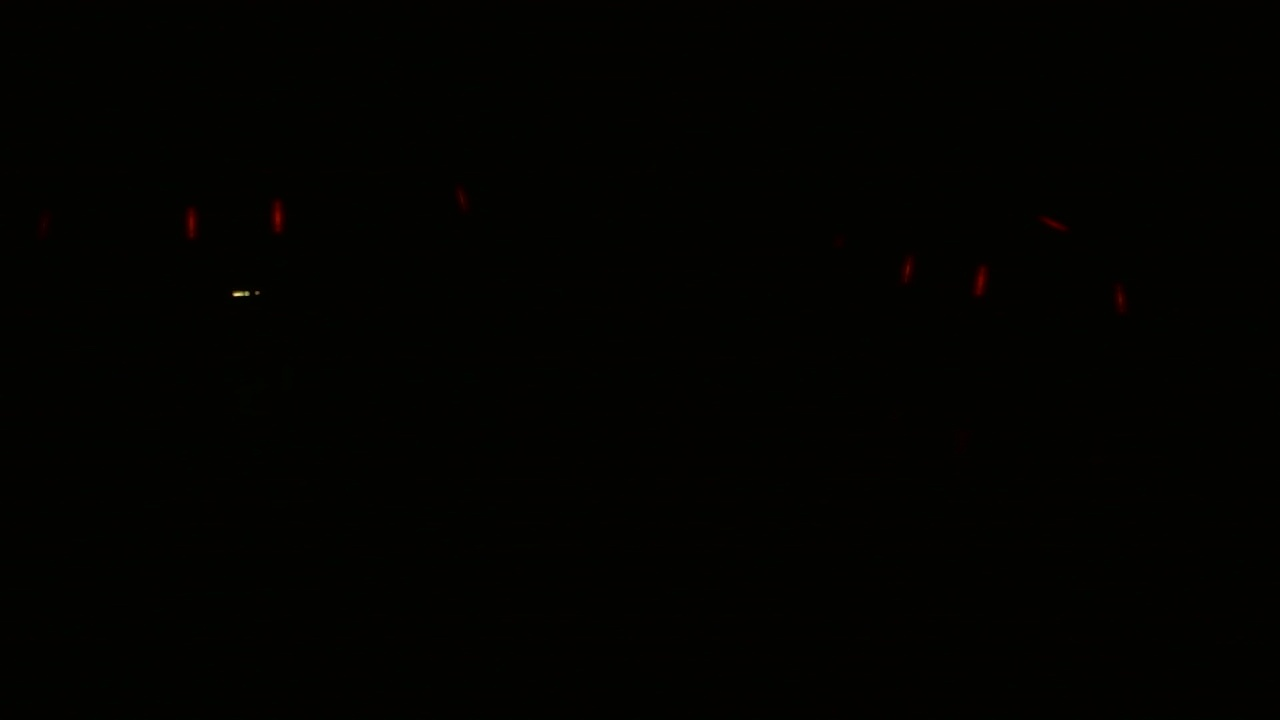pair1: (902, 253, 989, 301), (183, 199, 281, 239)
